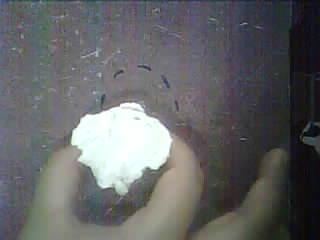paper: (69, 98, 172, 197)
